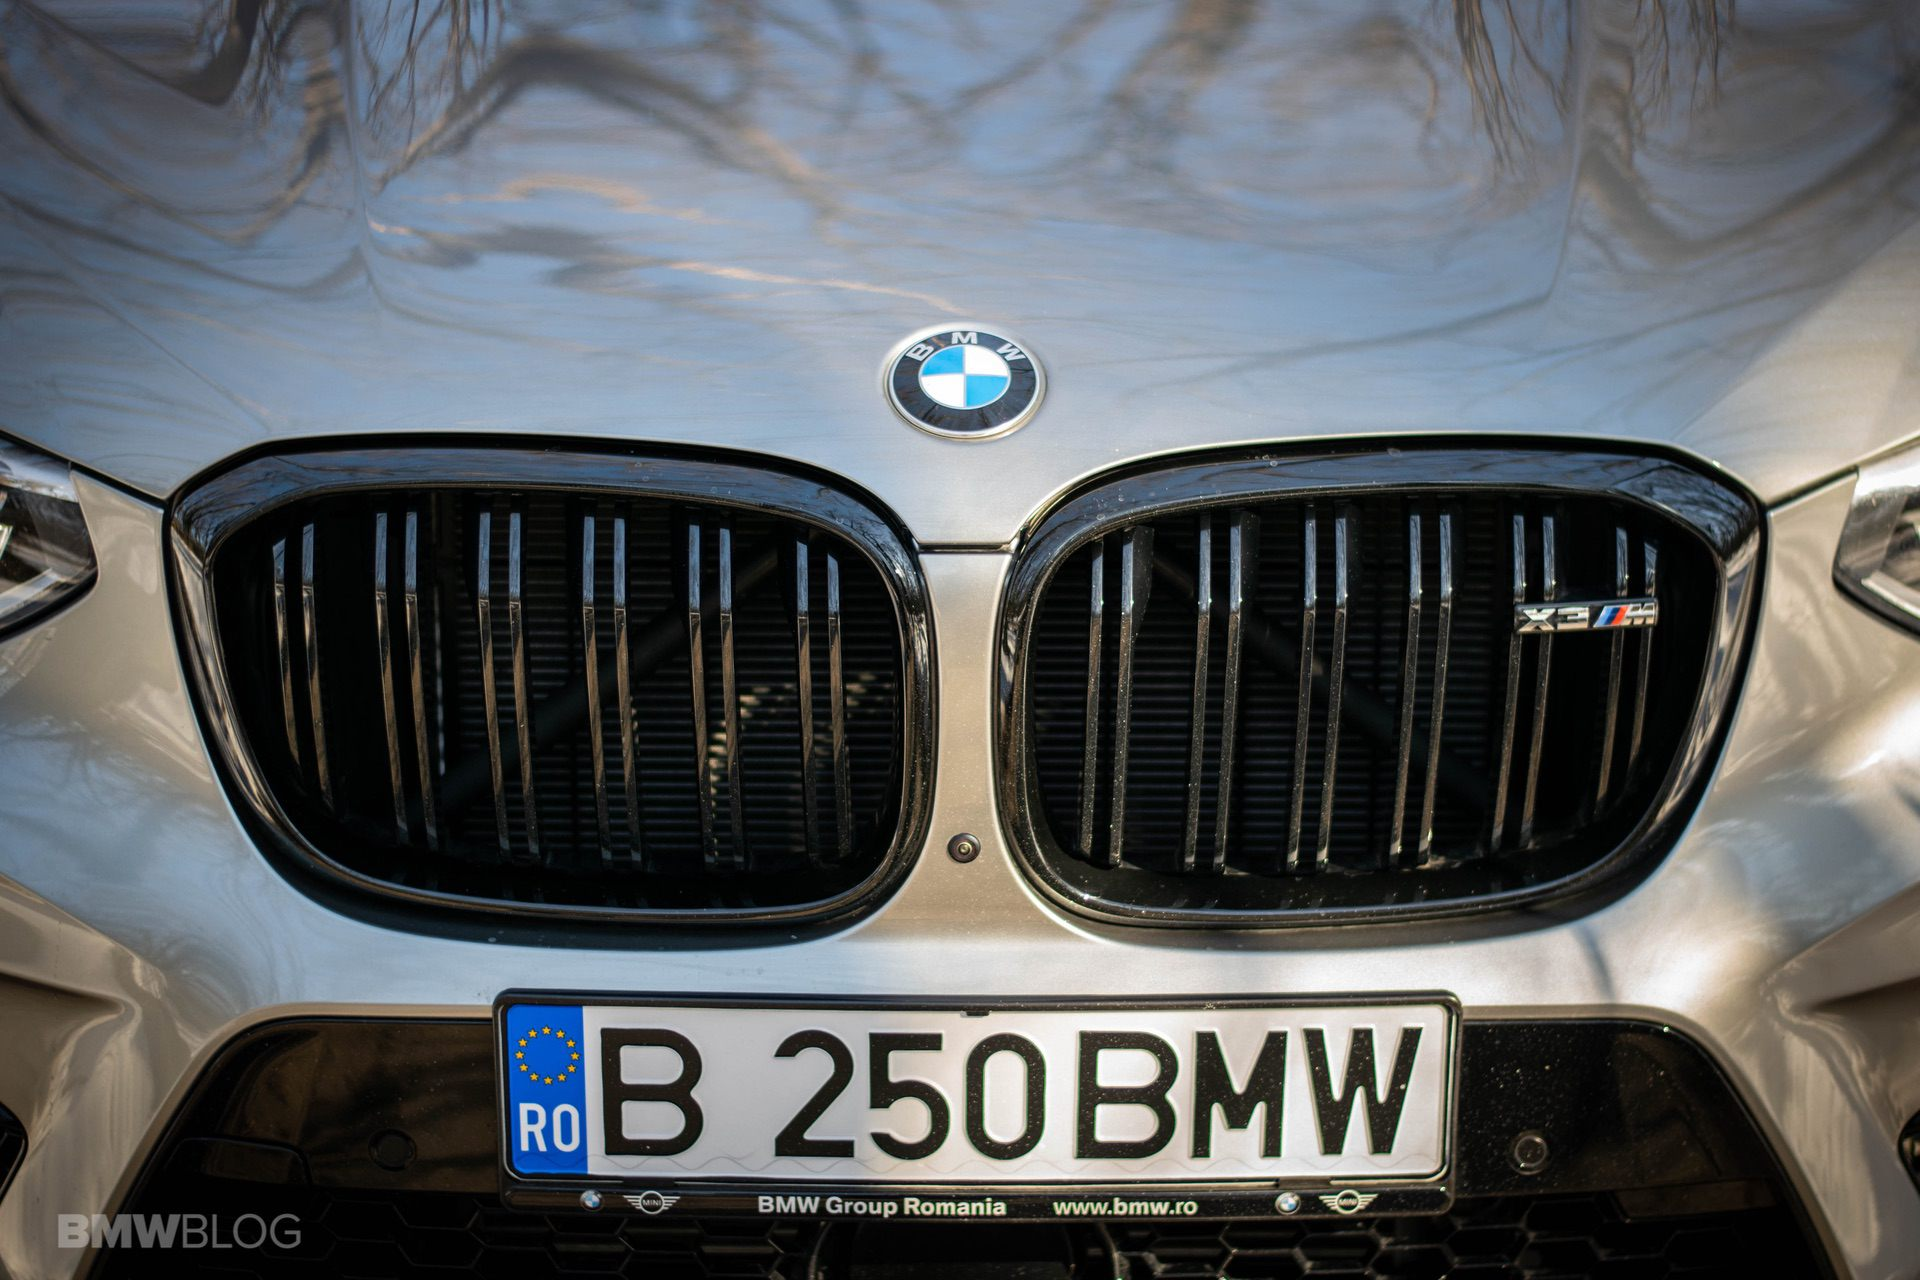number_plates: (508, 1008, 1448, 1182)
